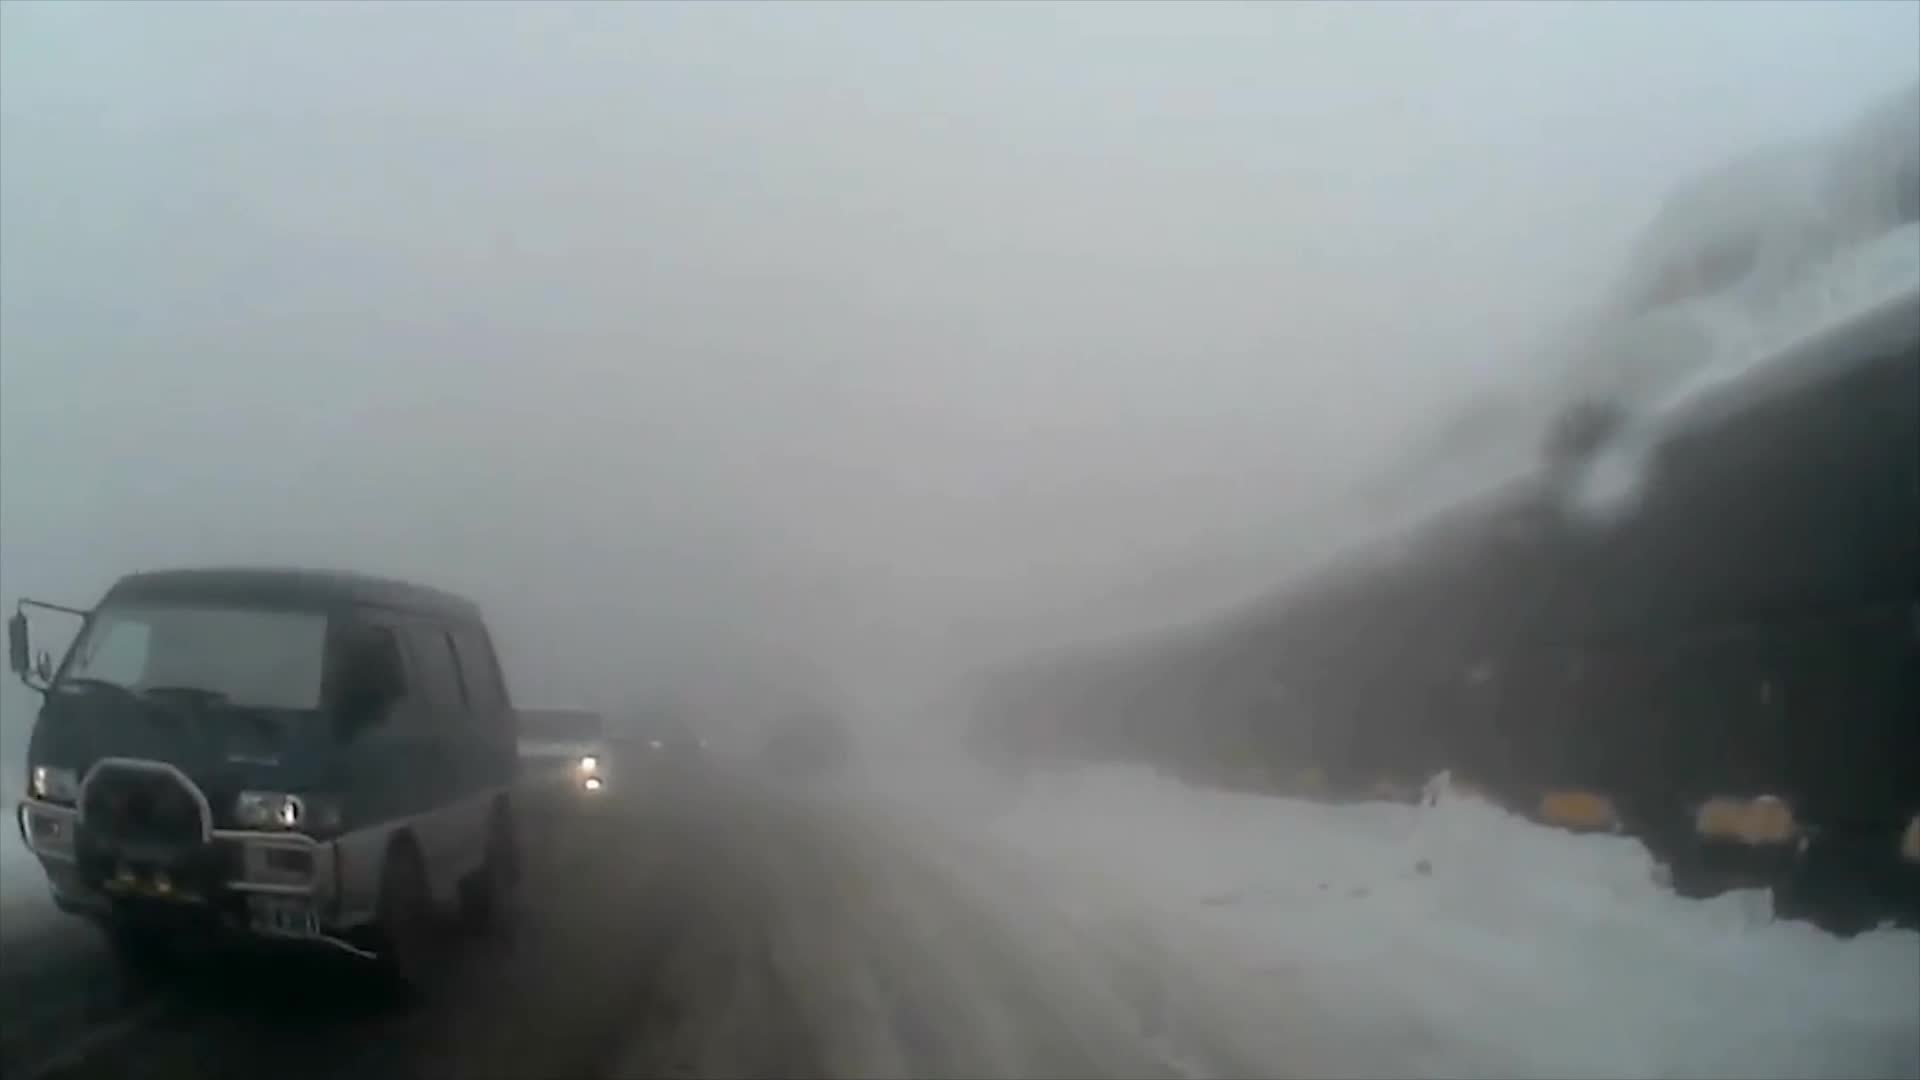vehicle: (5, 560, 527, 1013), (480, 702, 618, 820)
